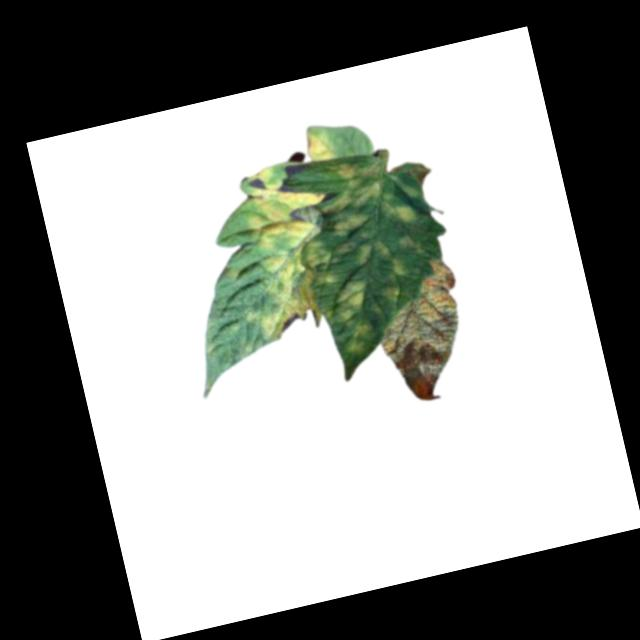Leaf_Mold: (279, 138, 472, 379), (213, 155, 354, 346), (365, 258, 481, 409), (303, 129, 333, 167)
